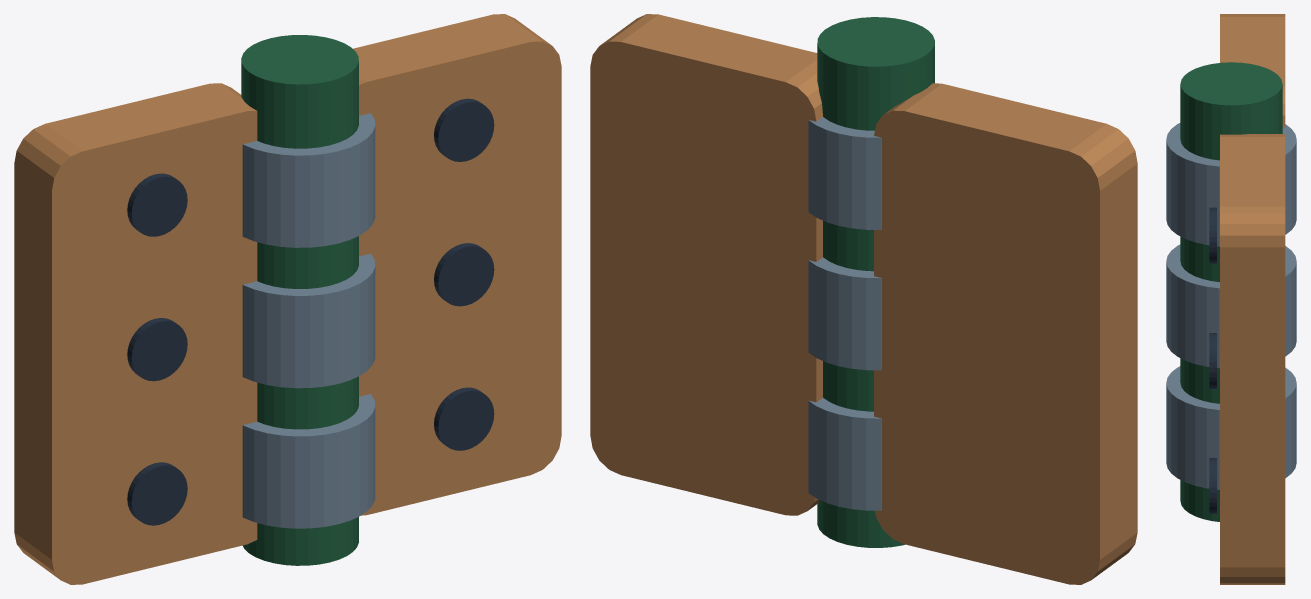
The model's file is hingeplate.glb.
3 views of the same model, side by side, from view 1: azimuth 30°, elevation 25°; view 2: azimuth 150°, elevation 25°; view 3: azimuth 270°, elevation 25° (orthographic). The views are drawn at different scales.
Parts seen in each view (by area): view 1: leaf-1, leaf1, pin, fixing hole (×6), knuckle0.24, knuckle0.94, knuckle0.59; view 2: leaf-1, leaf1, pin, knuckle0.24, knuckle0.59, knuckle0.94; view 3: leaf1, pin, knuckle0.24, knuckle0.59, knuckle0.94, leaf-1, fixing hole (×3).
Boxes of the visible parts, <box> form: leaf-1: <box>14,83,257,584</box>; leaf1: <box>353,14,561,515</box>; pin: <box>241,35,358,565</box>; fixing hole (×6): <box>127,98,494,525</box>; knuckle0.24: <box>242,394,375,528</box>; knuckle0.94: <box>242,113,375,247</box>; knuckle0.59: <box>242,253,375,388</box>; leaf-1: <box>874,83,1137,584</box>; leaf1: <box>590,14,822,515</box>; pin: <box>817,17,934,547</box>; knuckle0.24: <box>808,398,881,510</box>; knuckle0.59: <box>808,257,881,370</box>; knuckle0.94: <box>808,117,881,229</box>; leaf1: <box>1220,134,1285,584</box>; pin: <box>1180,62,1282,521</box>; knuckle0.24: <box>1166,366,1296,489</box>; knuckle0.59: <box>1166,244,1296,368</box>; knuckle0.94: <box>1166,123,1296,246</box>; leaf-1: <box>1220,14,1285,127</box>; fixing hole (×3): <box>1209,207,1216,513</box>.
Bounding box in the file's own units: 1.33 × 1.2 × 0.34.
